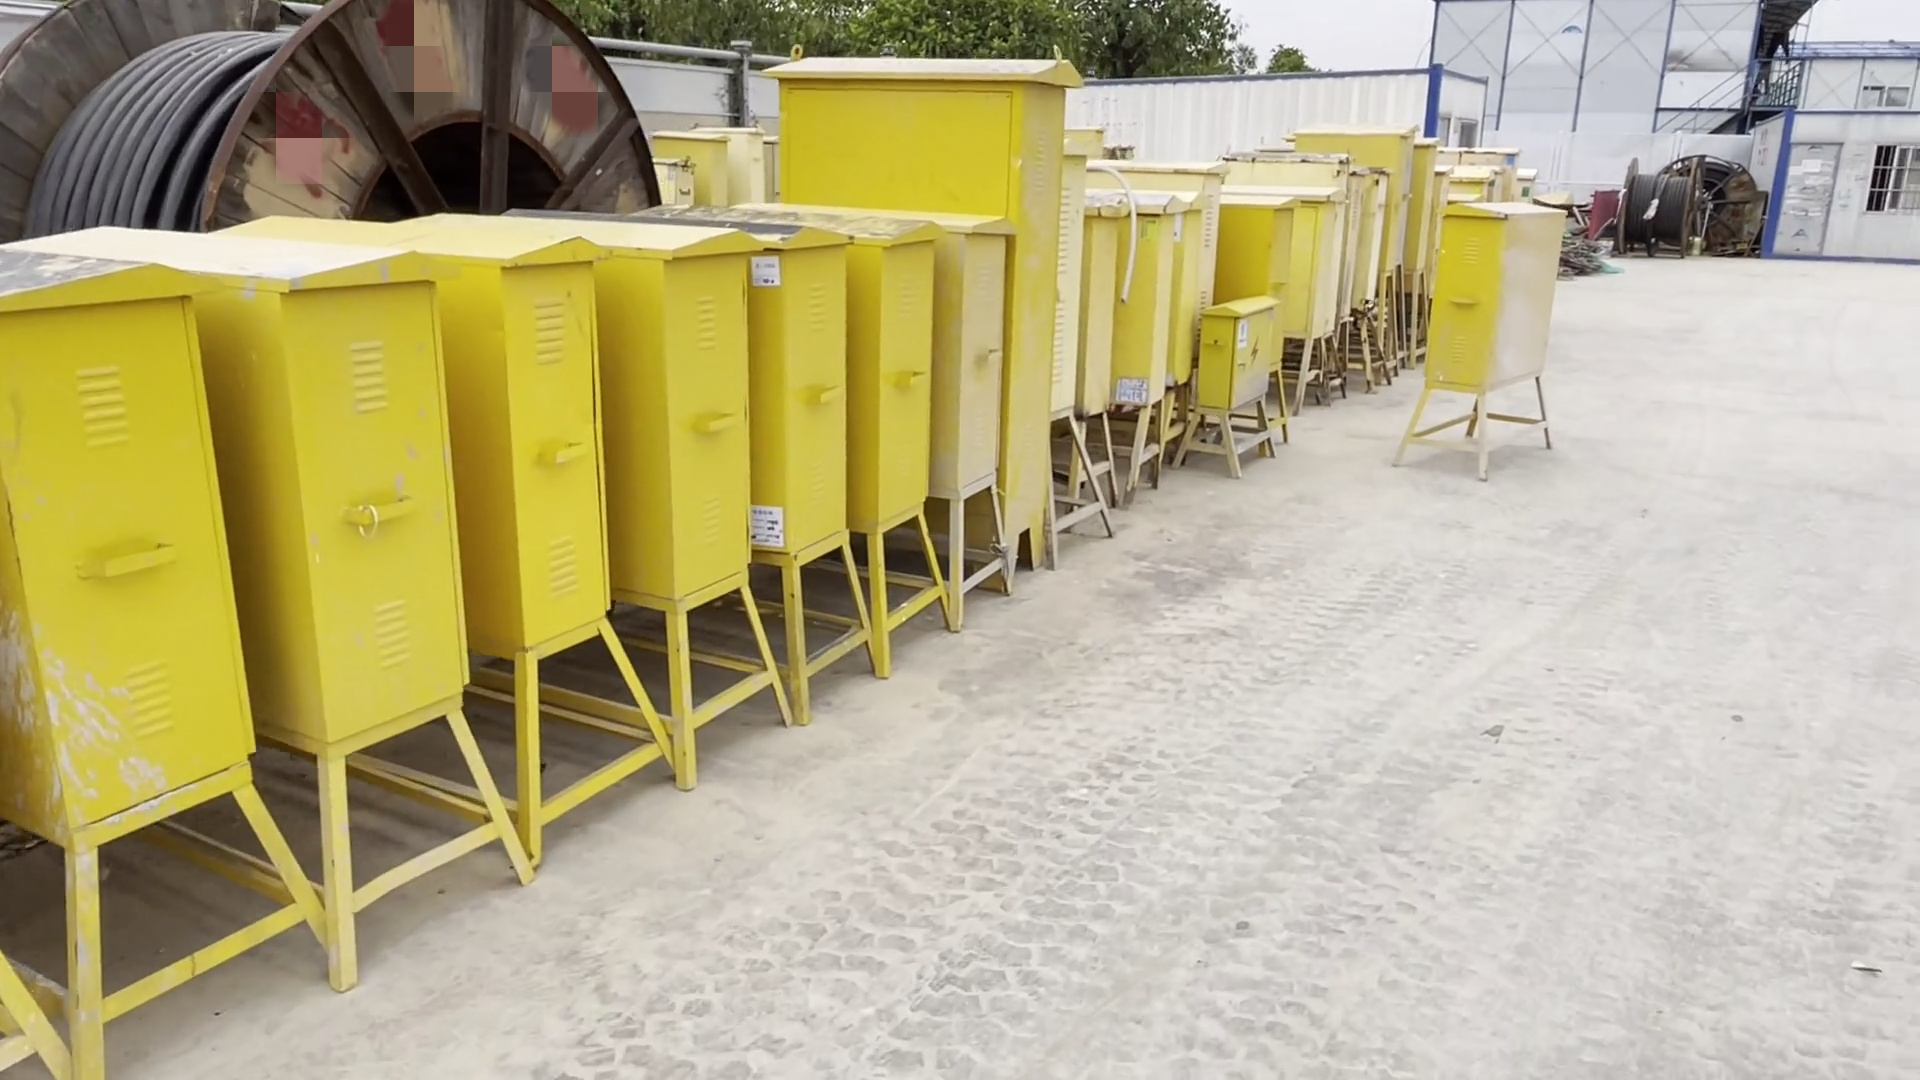ebox: (1, 211, 338, 1071), (287, 216, 535, 998), (778, 50, 1048, 564), (534, 218, 671, 864), (667, 196, 804, 796), (822, 196, 957, 657), (1396, 200, 1561, 485), (794, 208, 866, 727), (923, 200, 1011, 613), (1174, 287, 1282, 481)
